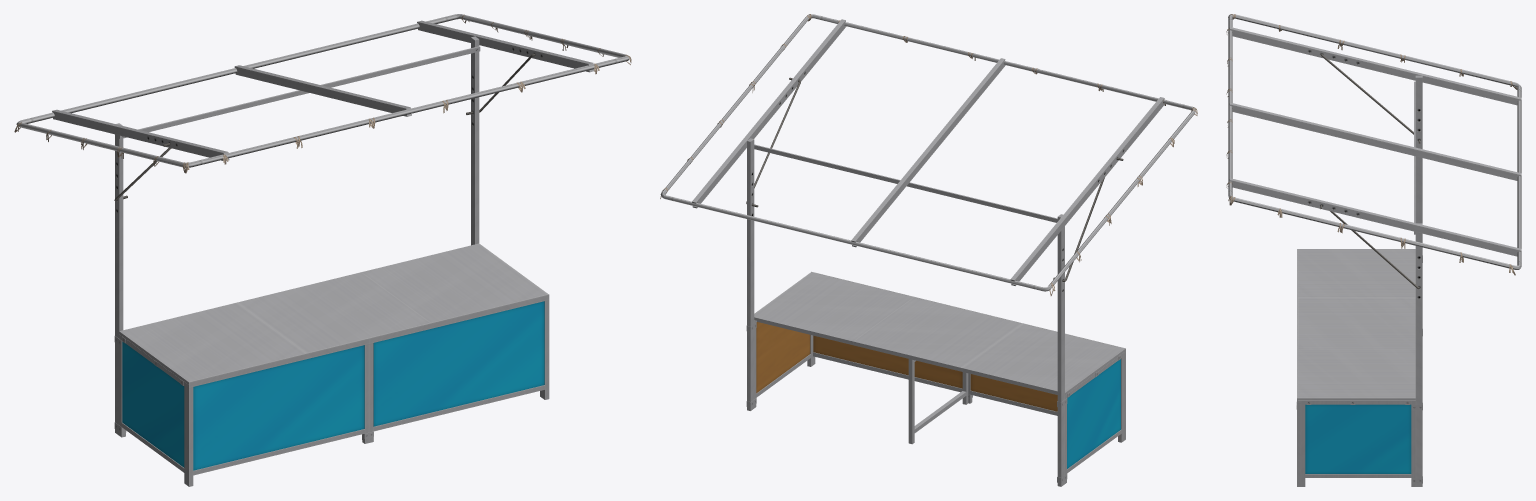
Rendered from jsf_2P_s03_c02_t01.fbx.
3 renders of one model, left to right at view 1: azimuth 30°, elevation 25°; view 2: azimuth 150°, elevation 25°; view 3: azimuth 270°, elevation 25°, orthographic. The views are drawn at different scales.
Visible parts, largest first — view 1: Base_s03_c02, Table_2P_s03_t01, Pillar2_s03, Rope_2P_s03; view 2: Table_2P_s03_t01, Pillar2_s03, Base_s03_c02, Support; view 3: Table_2P_s03_t01, Pillar2_s03, Base_s03_c02, Rope_2P_s03.
Part boxes in pixels (x1,y1,x2,y2): Base_s03_c02: [114, 294, 549, 486]; Table_2P_s03_t01: [119, 243, 547, 385]; Pillar2_s03: [16, 14, 629, 435]; Rope_2P_s03: [14, 14, 631, 173]; Table_2P_s03_t01: [754, 272, 1125, 397]; Pillar2_s03: [660, 14, 1196, 486]; Base_s03_c02: [746, 271, 1125, 483]; Support: [908, 359, 968, 444]; Table_2P_s03_t01: [1298, 249, 1415, 404]; Pillar2_s03: [1228, 14, 1521, 486]; Base_s03_c02: [1296, 249, 1422, 486]; Rope_2P_s03: [1226, 14, 1517, 275].
Size of the model in its own units: 316 by 244 by 211.
